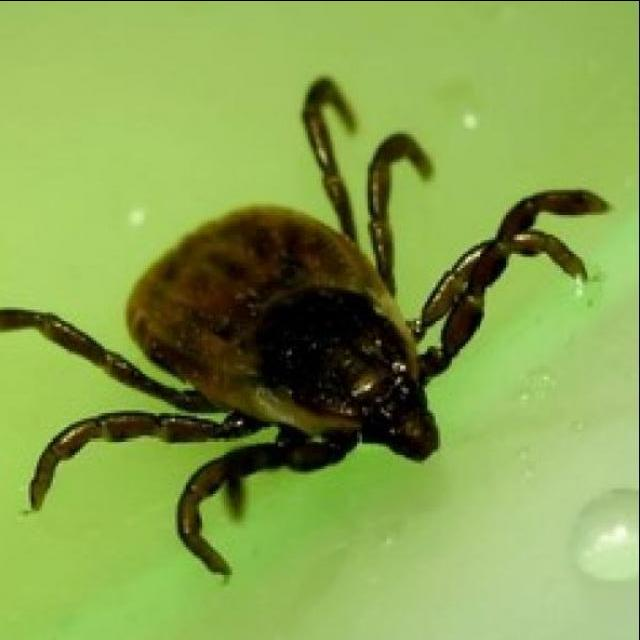Rhipicephalus Sanguineus-F: (0, 77, 610, 579)
